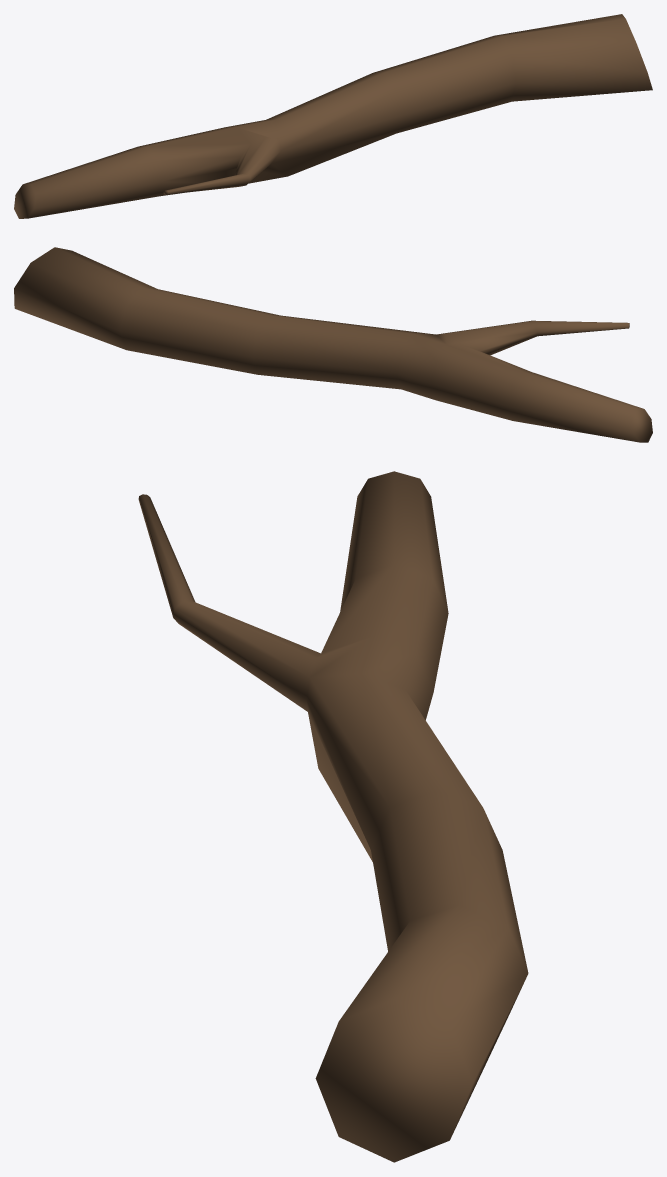
File: SM_CoastGroundStick.fbx
The picture shows the model from 3 angles, top to bottom: view 1: azimuth 30°, elevation 25°; view 2: azimuth 150°, elevation 25°; view 3: azimuth 270°, elevation 25°; orthographic projection. The views are drawn at different scales.
Parts seen in each view (by area): view 1: SM_CoastGroundStick; view 2: SM_CoastGroundStick; view 3: SM_CoastGroundStick.
Boxes of the visible parts, <box> form: SM_CoastGroundStick: <box>14,14,652,218</box>; SM_CoastGroundStick: <box>14,247,652,442</box>; SM_CoastGroundStick: <box>138,471,528,1162</box>.
Size of the model in its own units: 125 by 14.2 by 34.14.
